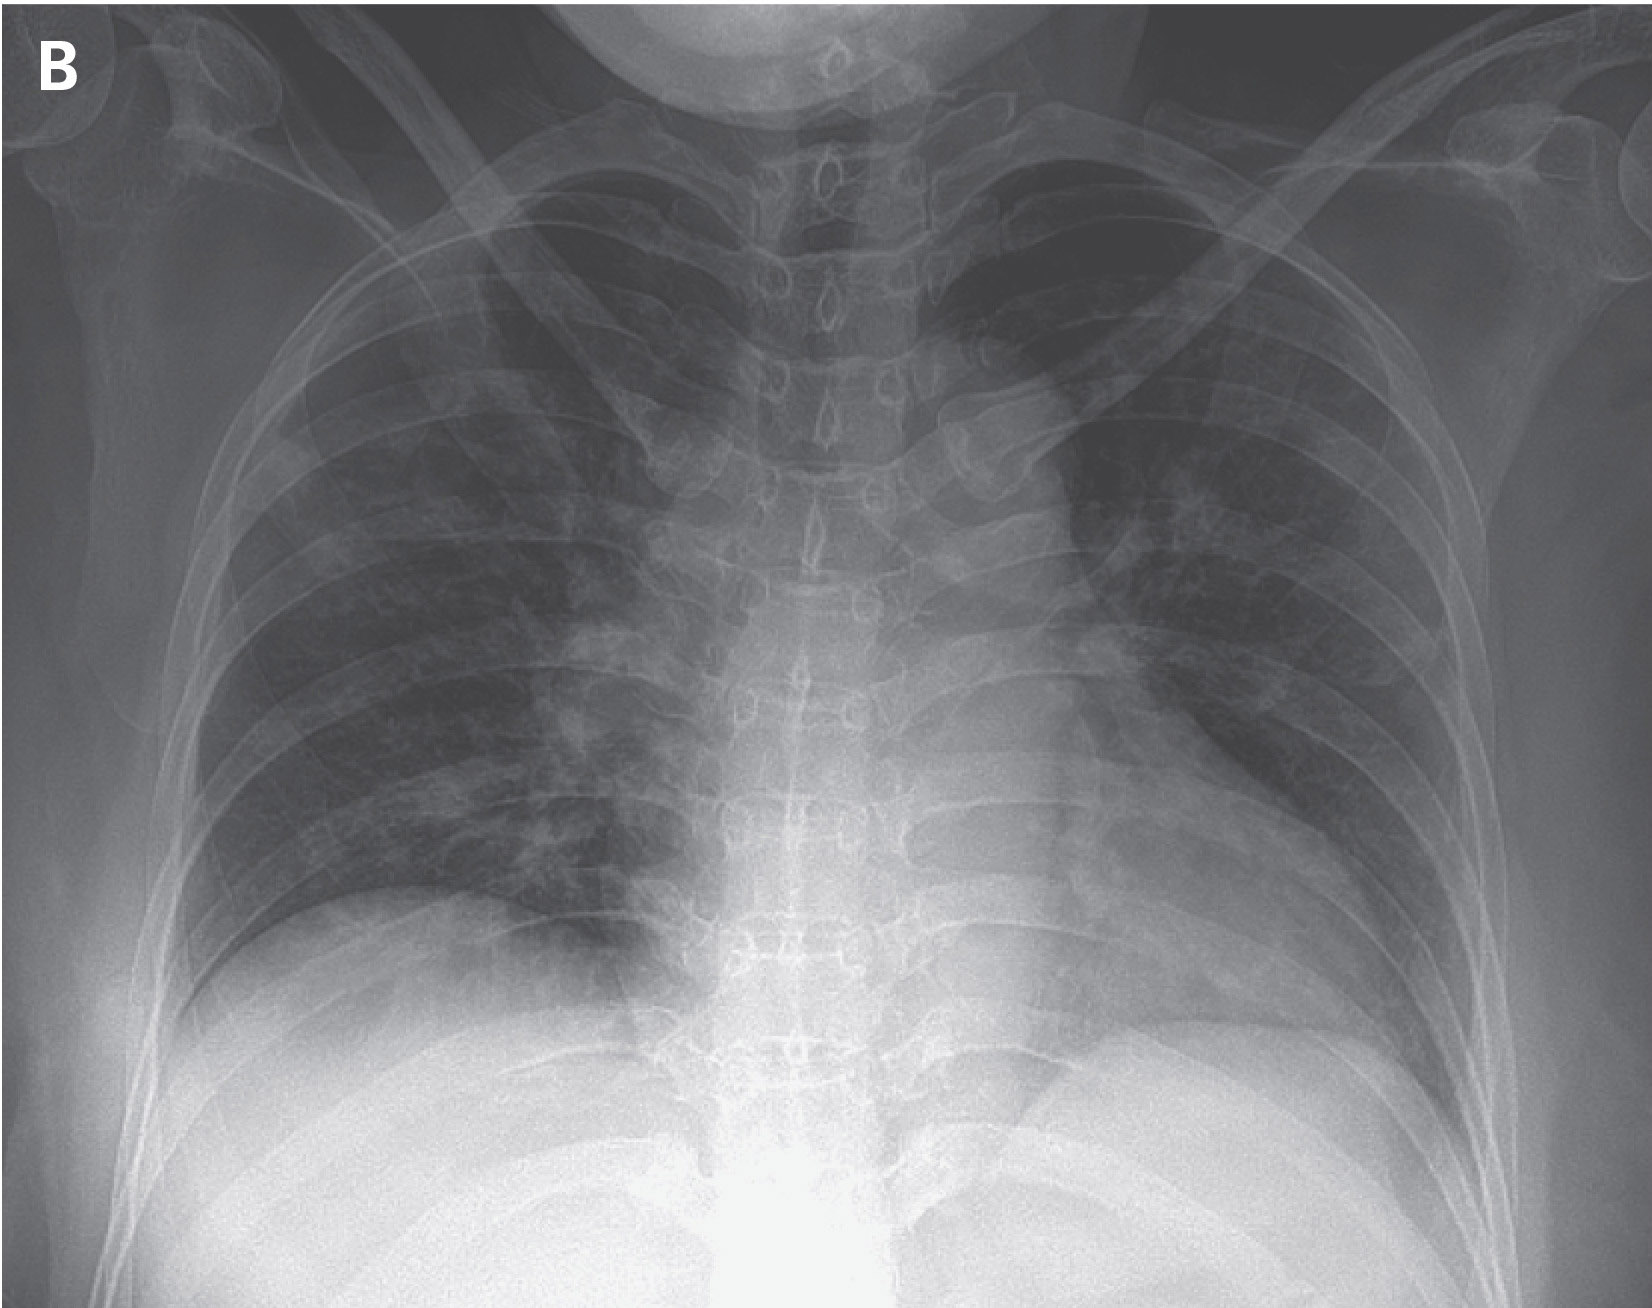Mildw: (949, 154, 1476, 1160), (170, 154, 750, 1036)
